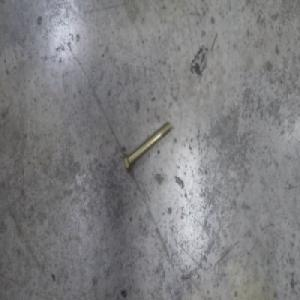Bolt: (122, 119, 172, 176)
